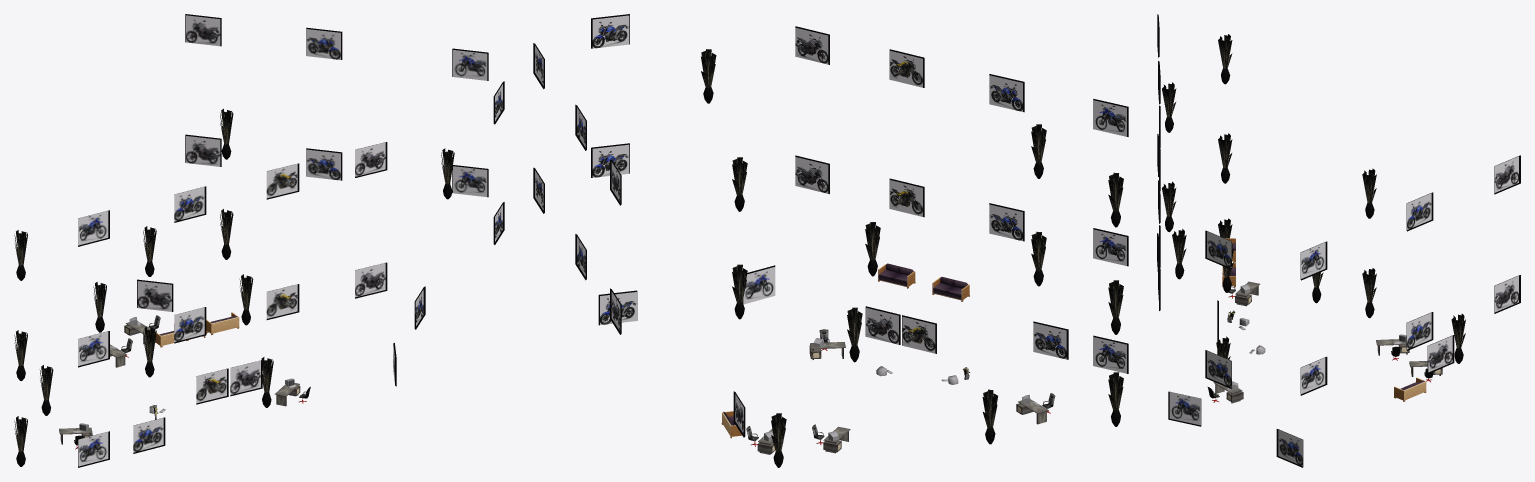
The model's file is ottos_bits.obj.
The picture shows the model from 3 angles, left to right: view 1: azimuth 30°, elevation 25°; view 2: azimuth 150°, elevation 25°; view 3: azimuth 270°, elevation 25°; orthographic projection. The views are drawn at different scales.
Parts seen in each view (by area): view 1: ottos_bits; view 2: ottos_bits; view 3: ottos_bits.
Boxes of the visible parts, <box> form: ottos_bits: <box>14,14,504,467</box>; ottos_bits: <box>533,14,1128,467</box>; ottos_bits: <box>1157,14,1520,467</box>.
Bounding box in the file's own units: 40 × 20.01 × 24.84.
Materials: 16 (16 with a texture image).
